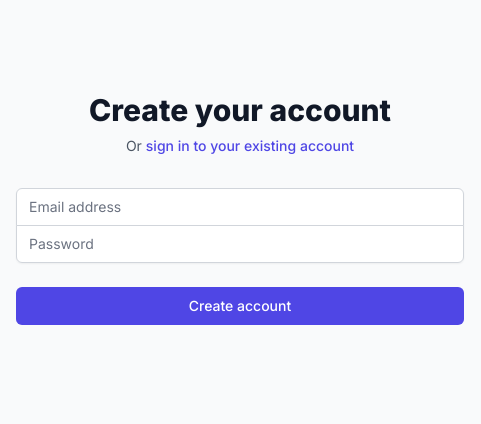
Password Strength Indicator › shows correct strength for weak password
Type "123" into the password field labelled "Password" at (240, 244), box [16,224,464,262]
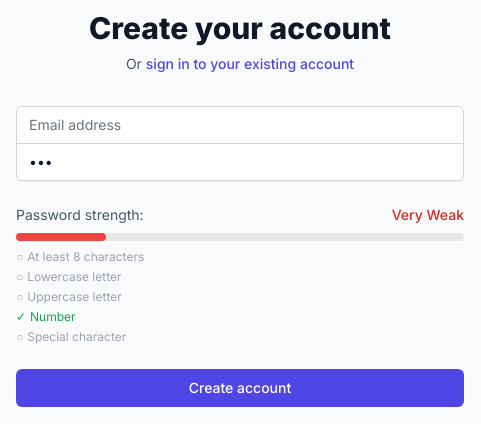
Now the text "Very Weak" is shown, box [392,204,464,224]
